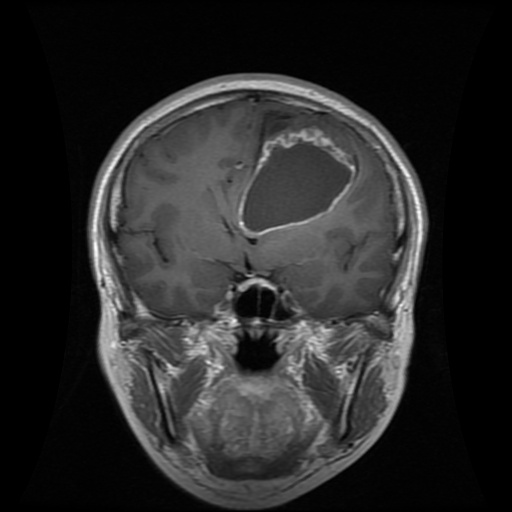glioma: (236, 111, 359, 238)
